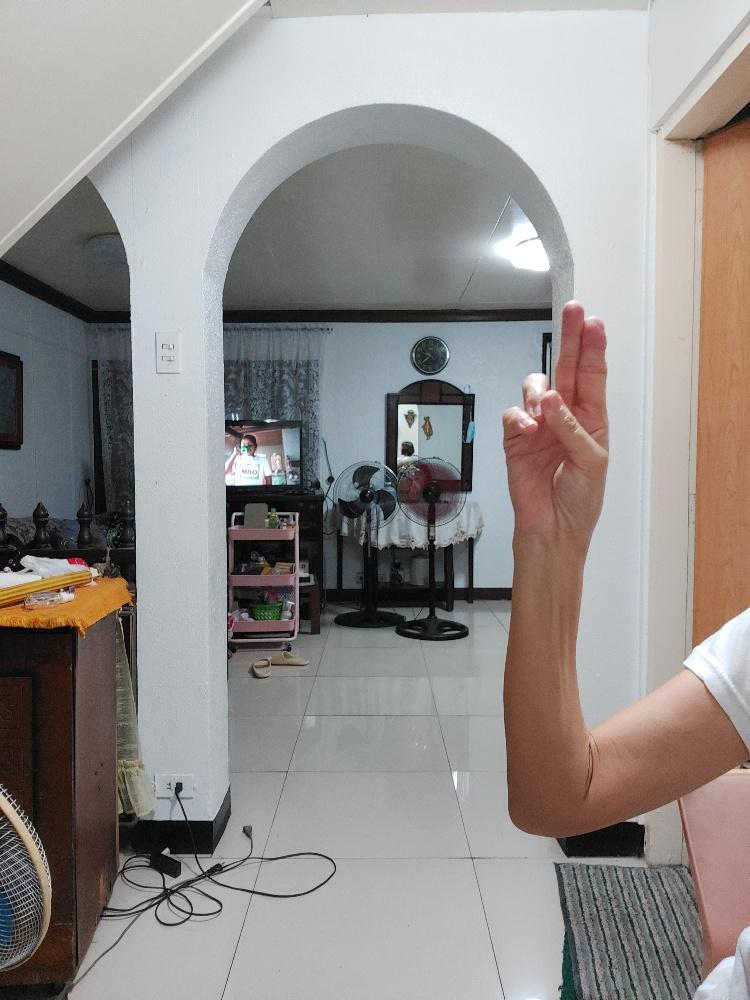u: (502, 298, 608, 536)
